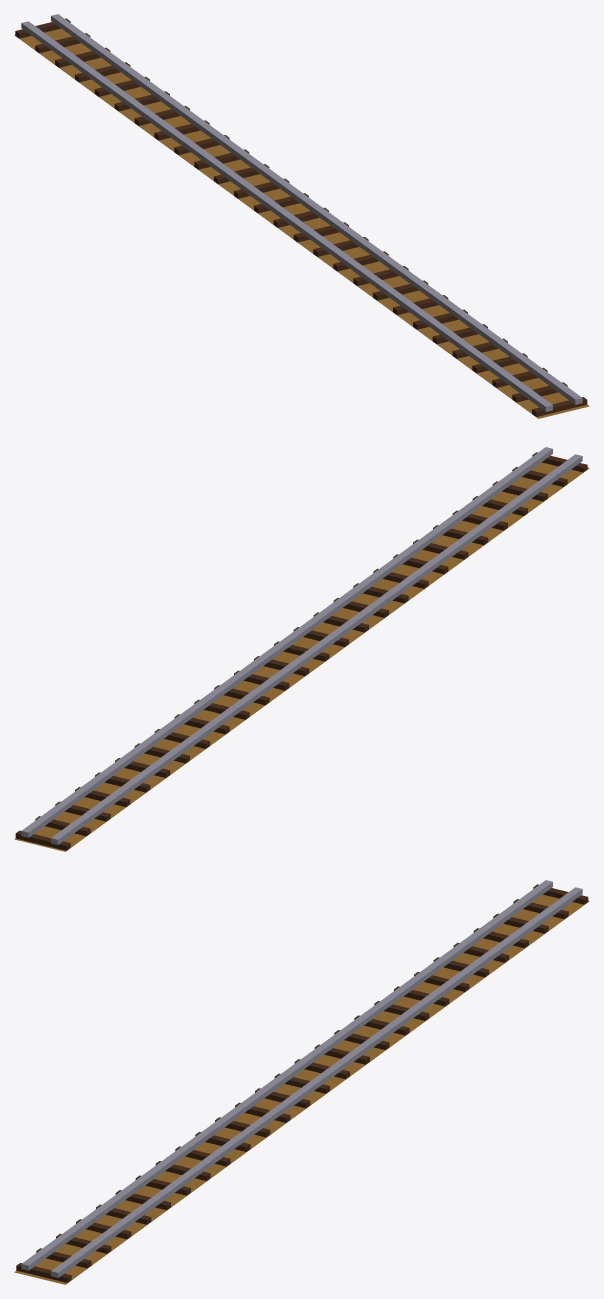
The model's file is train_road (4).fbx.
3 renders of one model, top to bottom at view 1: azimuth 30°, elevation 25°; view 2: azimuth 150°, elevation 25°; view 3: azimuth 330°, elevation 25°, orthographic.
Visible parts, largest first — view 1: Plane.012; view 2: Plane.012; view 3: Plane.012.
Part boxes in pixels (x1,y1,x2,y2): Plane.012: [14, 14, 589, 418]; Plane.012: [14, 447, 589, 851]; Plane.012: [14, 880, 589, 1284].
Bounding box in the file's own units: 400 × 75.92 × 7048.
